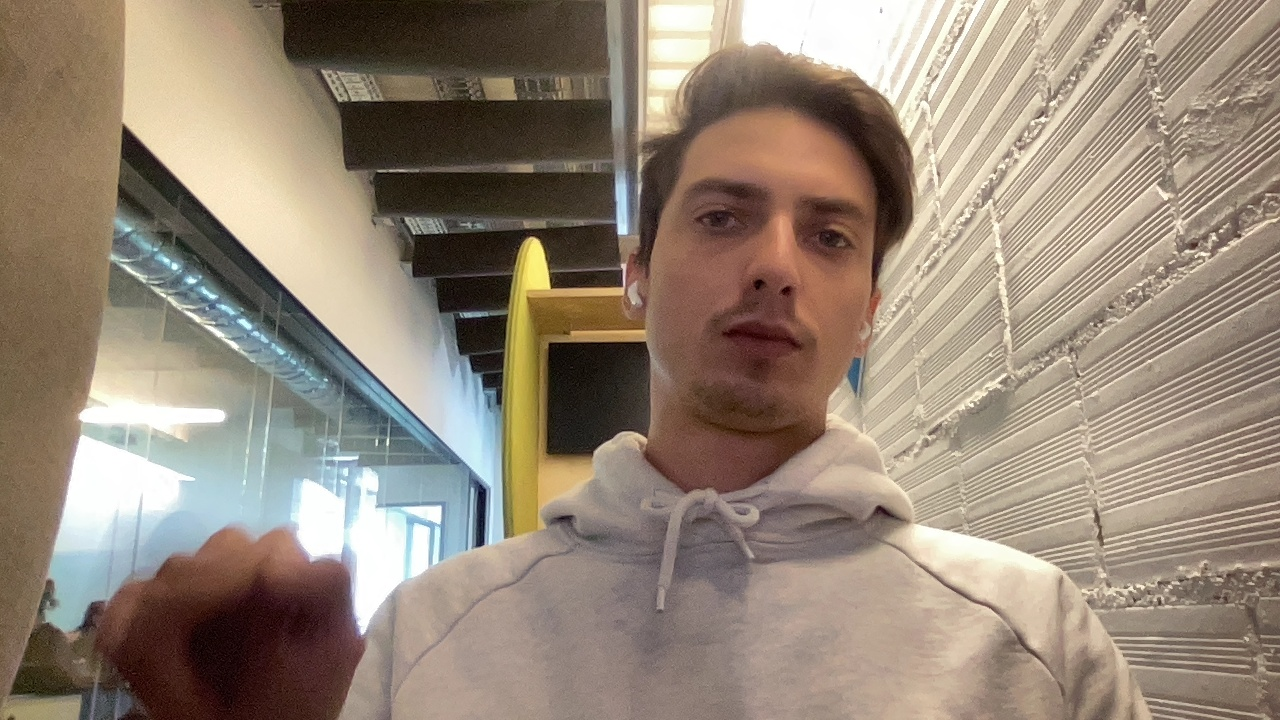no: (26, 403, 399, 720)
